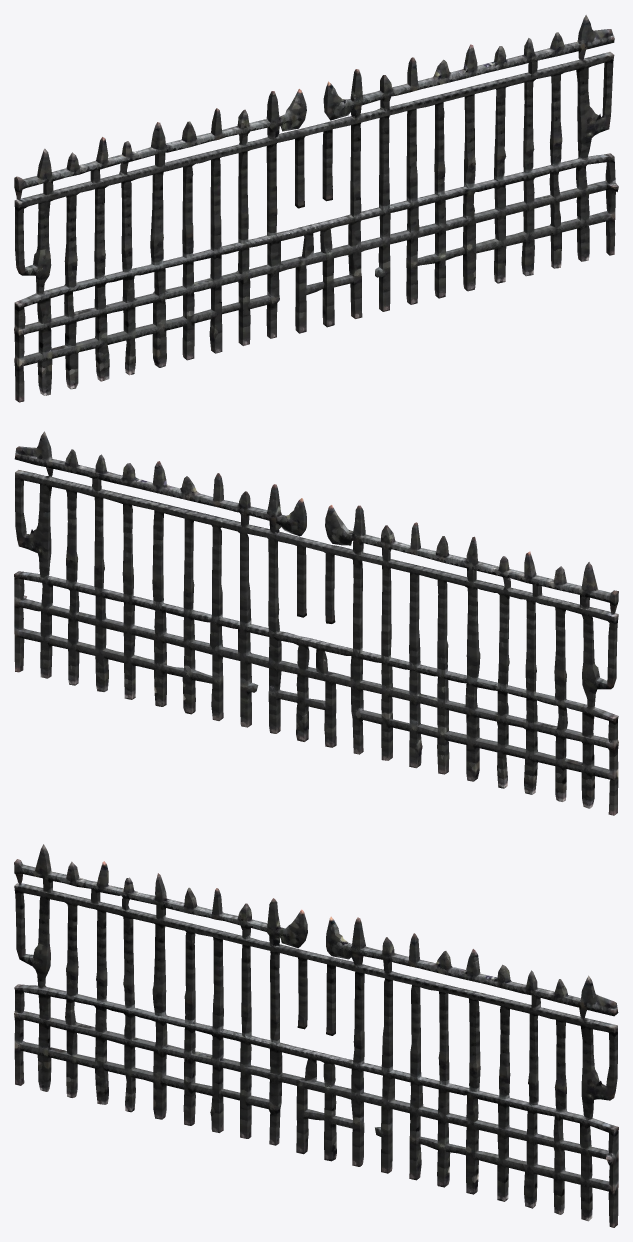
The model's file is railing-iron.glb.
3 views of the same model, one above another, from view 1: azimuth 30°, elevation 25°; view 2: azimuth 150°, elevation 25°; view 3: azimuth 330°, elevation 25° (orthographic).
Visible parts, largest first — view 1: rail01; view 2: rail01; view 3: rail01.
Part boxes in pixels (x1,y1,x2,y2): rail01: (14, 15, 618, 402); rail01: (14, 431, 618, 815); rail01: (14, 844, 618, 1227).
Bounding box in the file's own units: 2.52 × 0.9993 × 0.0663.
Materials: 1 (1 with a texture image).
